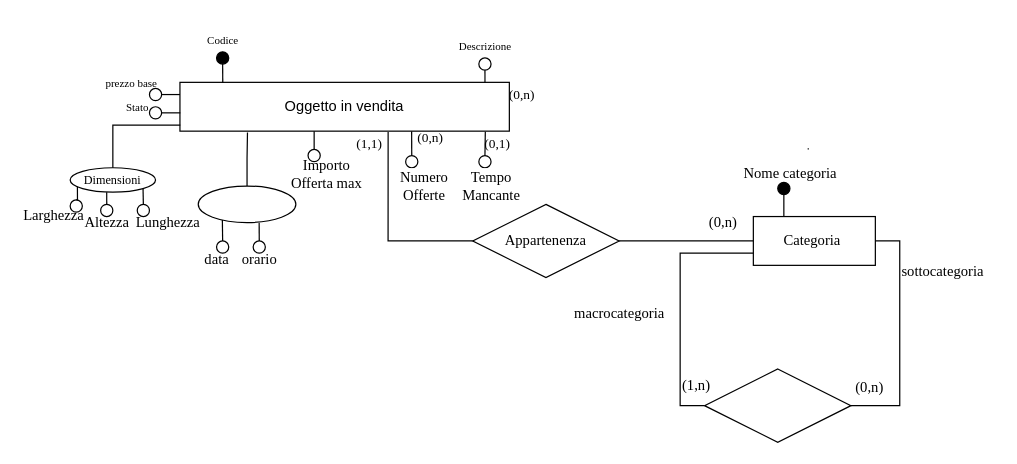
This 1017x464 diagram has some shape labels left out. Each missing label, with the centre of its shape:
Gerarchia: the point at 777,405
inizio asta: the point at 246,204
